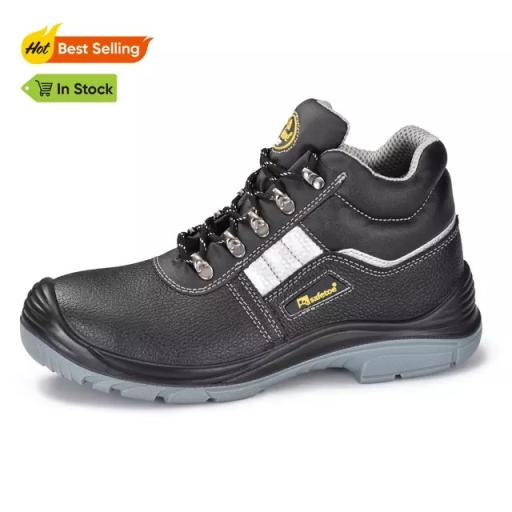safety_boots: (16, 231, 510, 405)
